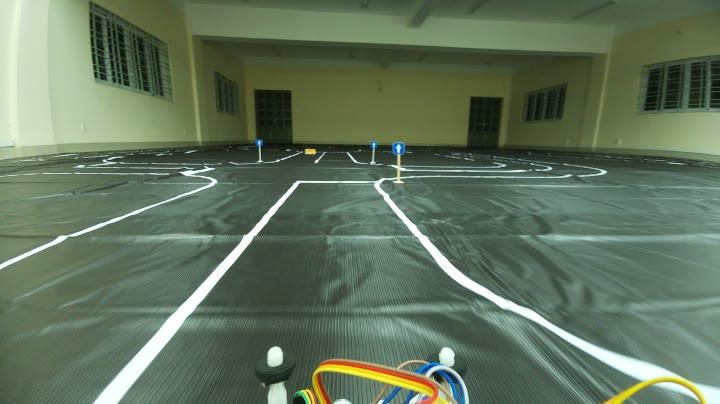onewayroad: (393, 138, 406, 154), (252, 136, 266, 146), (369, 138, 380, 150)
roadblock: (301, 146, 317, 158)
